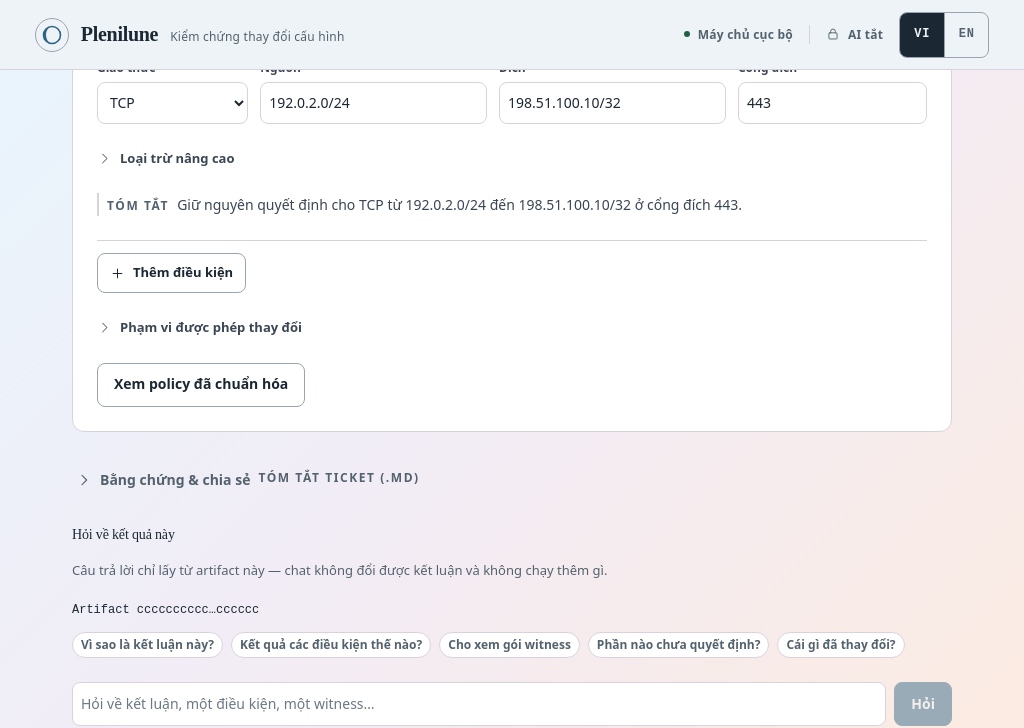
P1-8 quick verdict path › (d) hides repair for EQUIVALENT and shows it for DIFFERENT with a violated obligation
(page scrolled)
Click the button "Xem policy đã chuẩn hóa".
click(201, 385)  # box [97,363,305,407]
(page scrolled)
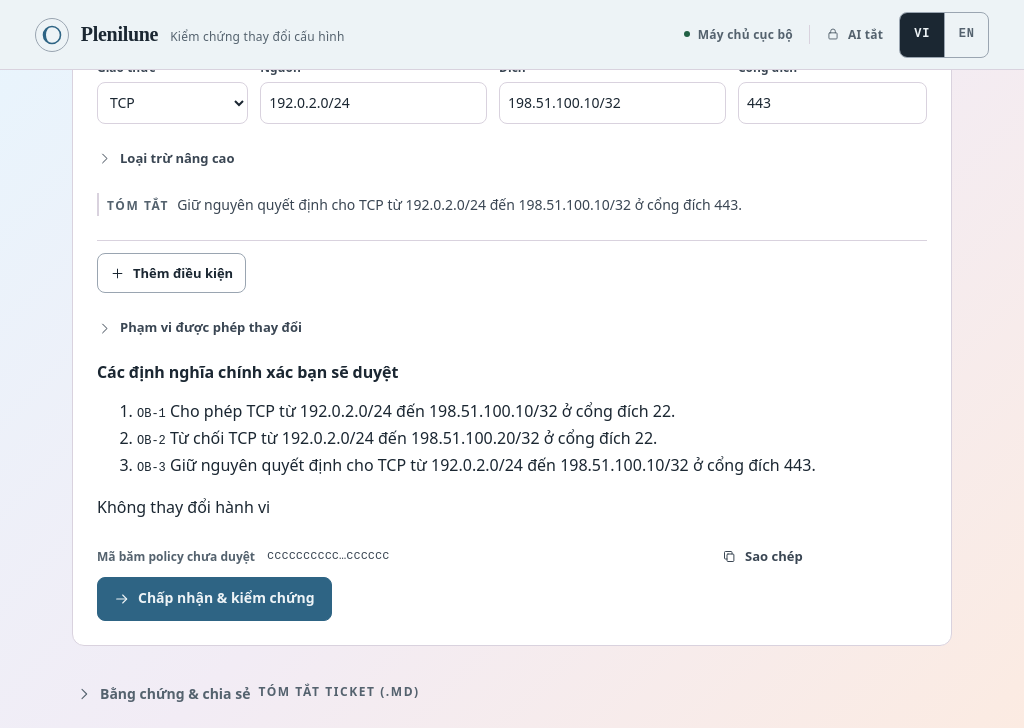
Result: the heading "Các định nghĩa chính xác bạn sẽ duyệt" is shown at [97,361,398,383]
Click the button "Chấp nhận & kiểm chứng".
click(214, 599)  # box [97,577,332,621]
(page scrolled)
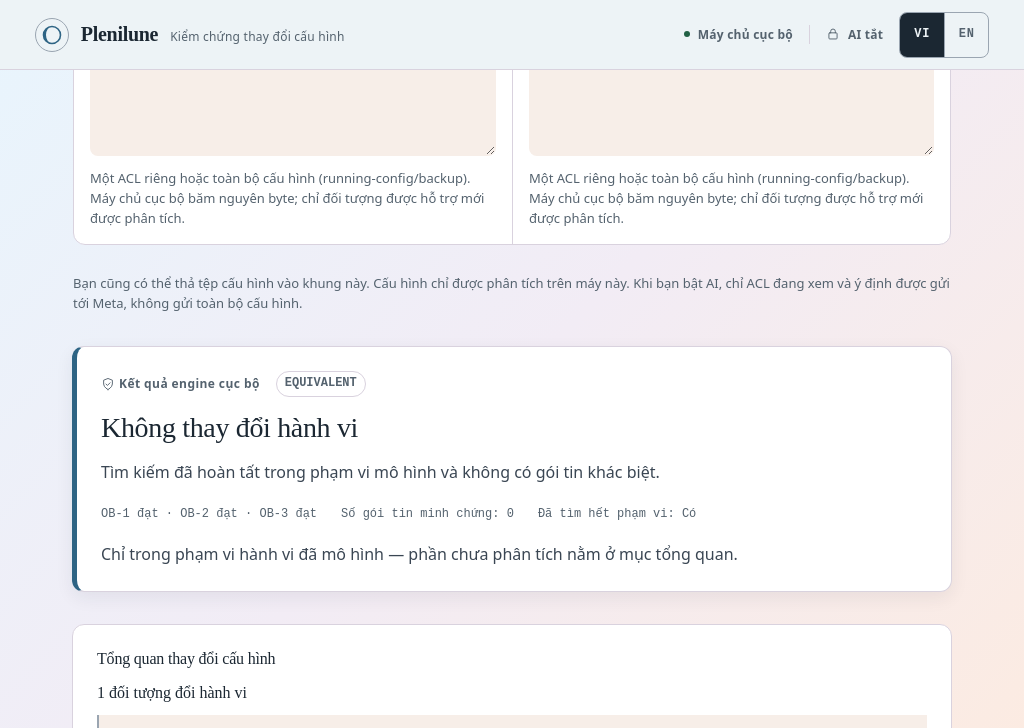
Result: the text "EQUIVALENT" is shown at [276,371,366,397]
